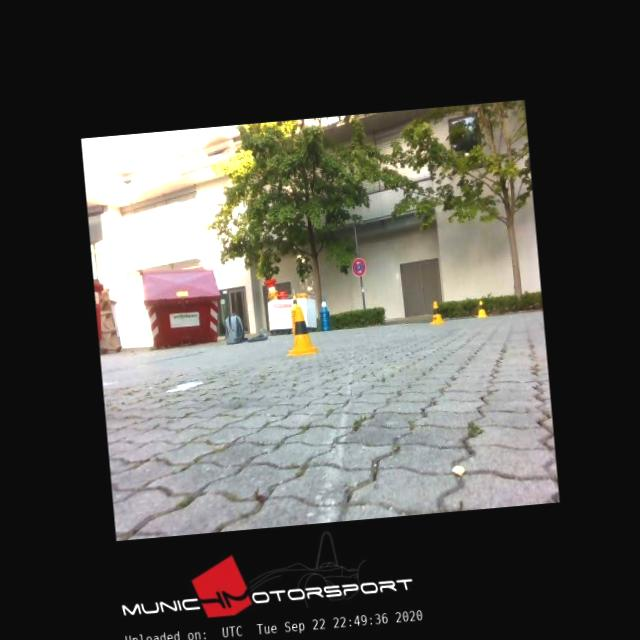blue_cone: (318, 296, 329, 314)
yellow_cone: (286, 306, 318, 354), (428, 300, 443, 324), (476, 299, 486, 317), (290, 294, 297, 309)
